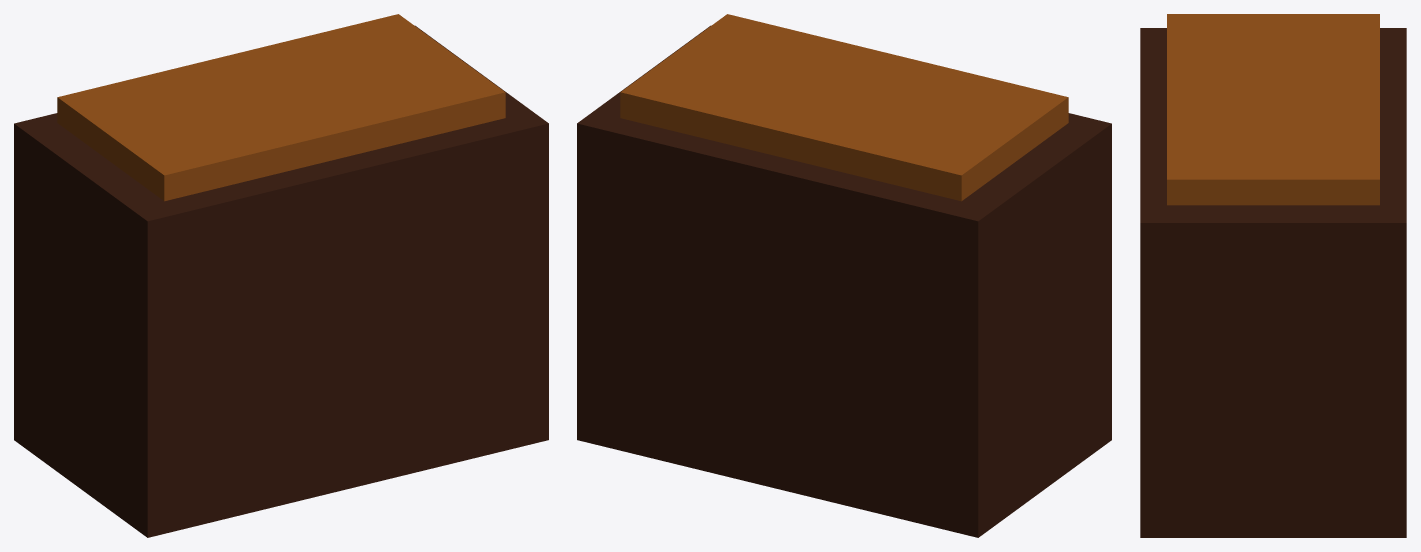
Rendered from catalog_stand.obj.
3 renders of one model, left to right at view 1: azimuth 30°, elevation 25°; view 2: azimuth 150°, elevation 25°; view 3: azimuth 270°, elevation 25°, orthographic.
Parts seen in each view (by area): view 1: dark_wood, brass; view 2: dark_wood, brass; view 3: dark_wood, brass.
Part boxes in pixels (bbox=[...]): dark_wood: bbox=[14, 25, 548, 537]; brass: bbox=[57, 14, 505, 201]; dark_wood: bbox=[577, 25, 1111, 537]; brass: bbox=[620, 14, 1068, 201]; dark_wood: bbox=[1140, 28, 1406, 537]; brass: bbox=[1167, 14, 1379, 205].
Bounding box in the file's own units: 1.3 × 1.07 × 0.75.
